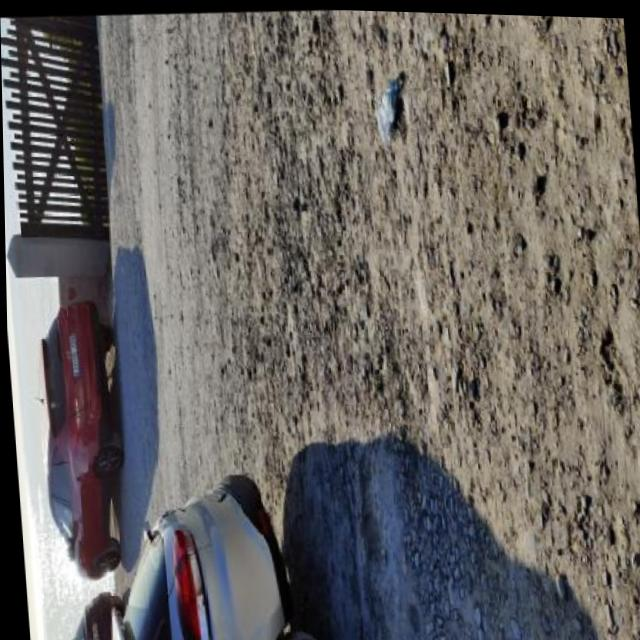plastic: (373, 77, 403, 148)
